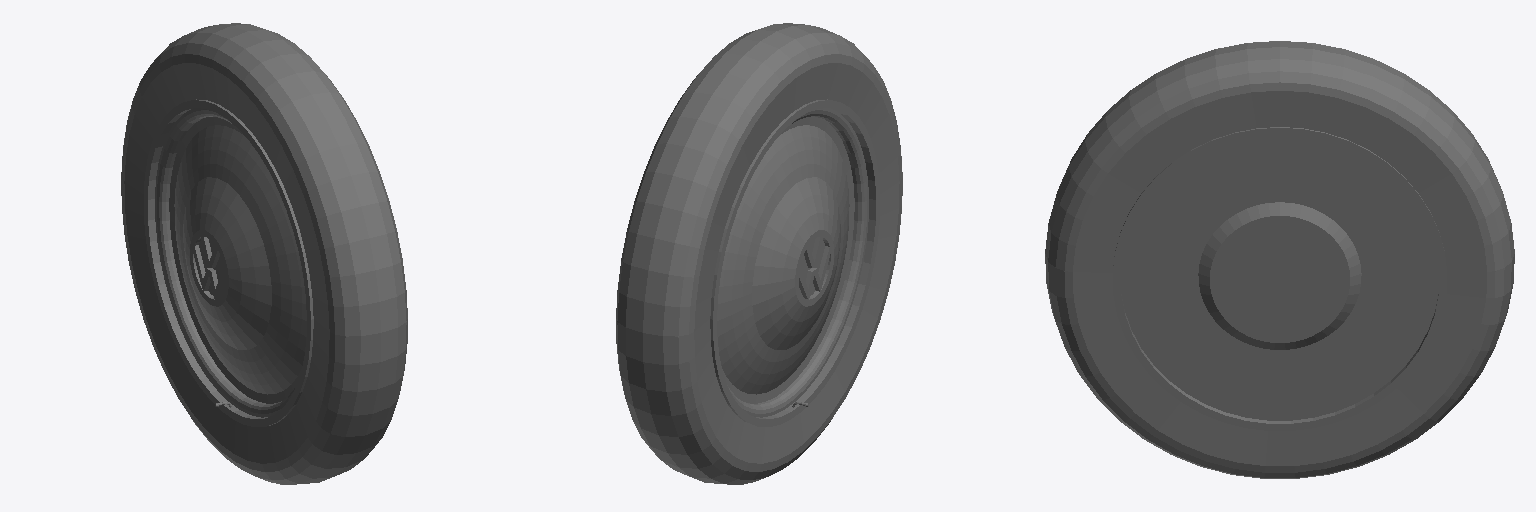
The model's file is Rueda.obj.
3 renders of one model, left to right at view 1: azimuth 30°, elevation 25°; view 2: azimuth 150°, elevation 25°; view 3: azimuth 270°, elevation 25°, orthographic.
Parts seen in each view (by area): view 1: VWBRiFrT, VWBRiFrL, VWBRiBkC; view 2: VWBRiFrT, VWBRiFrL, VWBRiBkC; view 3: VWBRiFrT, VWBRiFrL.
Part boxes in pixels (bbox=[...]): VWBRiFrT: bbox=[121, 23, 407, 484]; VWBRiFrL: bbox=[144, 99, 313, 426]; VWBRiBkC: bbox=[183, 177, 271, 349]; VWBRiFrT: bbox=[616, 23, 902, 484]; VWBRiFrL: bbox=[710, 99, 879, 426]; VWBRiBkC: bbox=[752, 177, 840, 349]; VWBRiFrT: bbox=[1045, 41, 1514, 478]; VWBRiFrL: bbox=[1113, 127, 1446, 430].
Bounding box in the file's own units: 302 × 1315 × 1316.